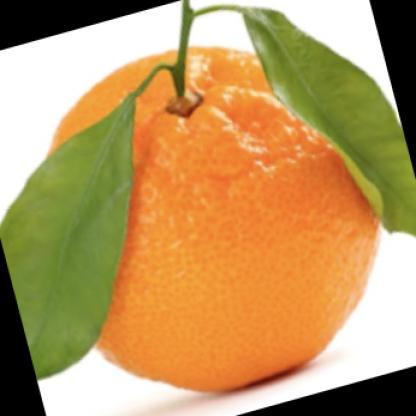orange: (52, 44, 386, 394)
